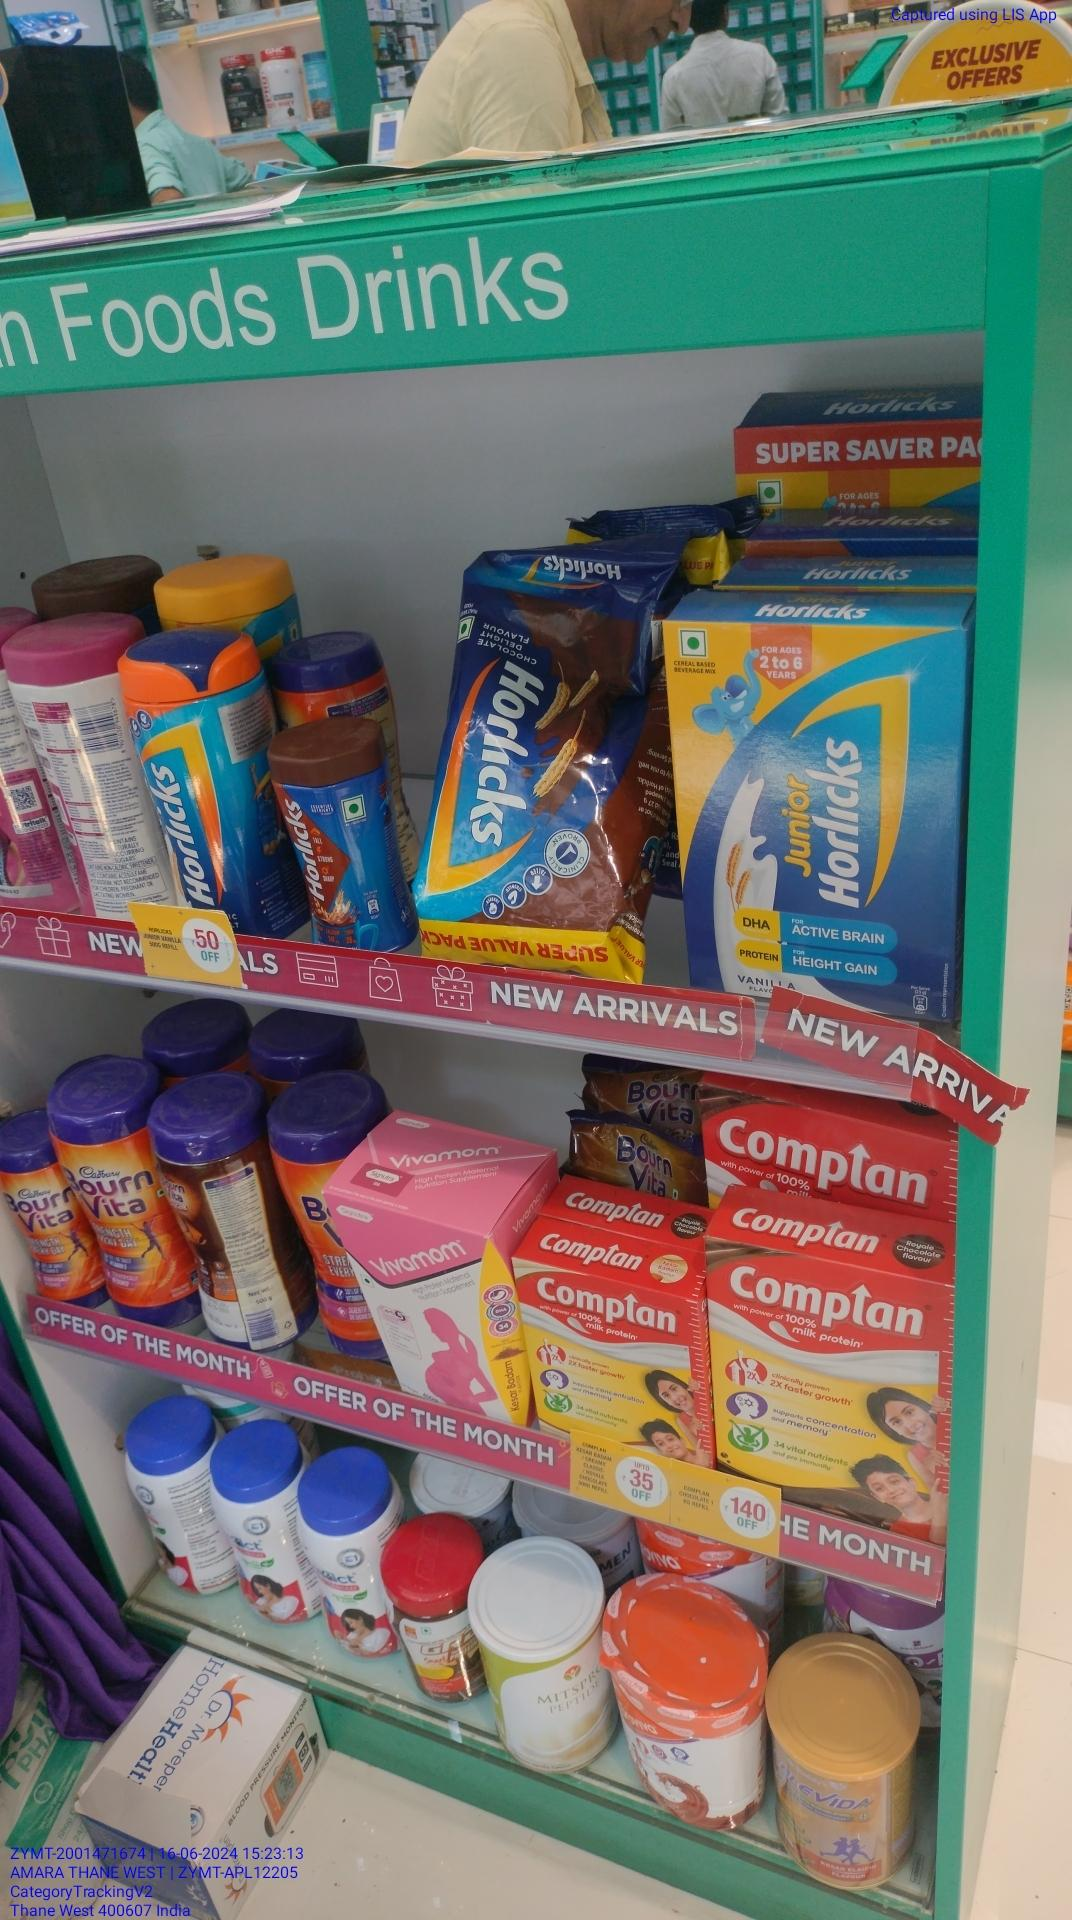COMPLAN_KESAR_BADAM_200_GMS_PACK: (523, 1263, 701, 1456)
HORLICK_CHOCOLATE_200_G_JAR: (272, 738, 385, 949)
